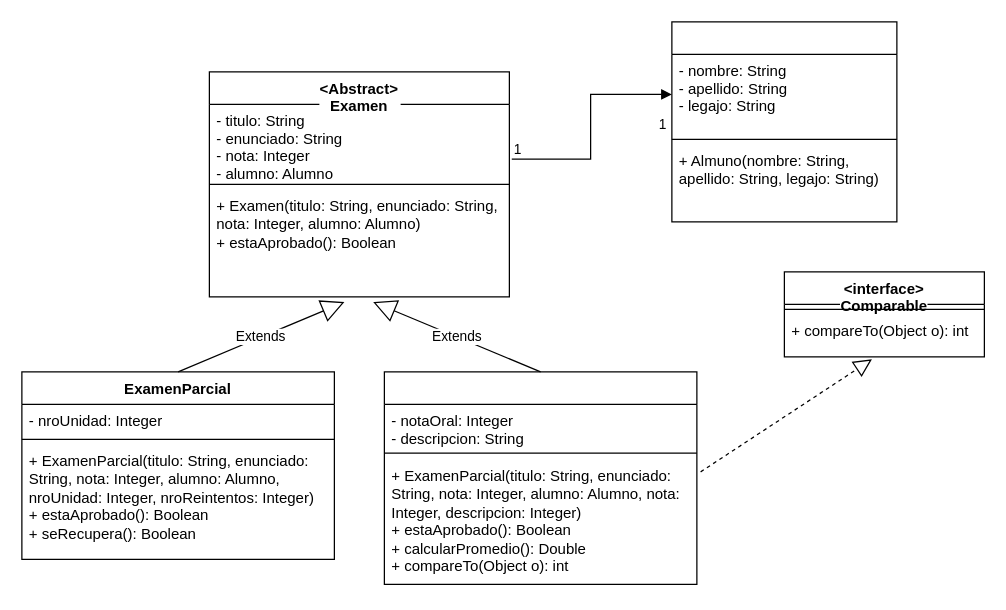
Some shapes in this 1006 by 610 pixel diagram are drawn without their labels. Here are the shapes that lost their labels. From the top down, the box of each, then its label:
(671, 21, 897, 222): Alumno
(383, 371, 697, 584): ExamenFinal
